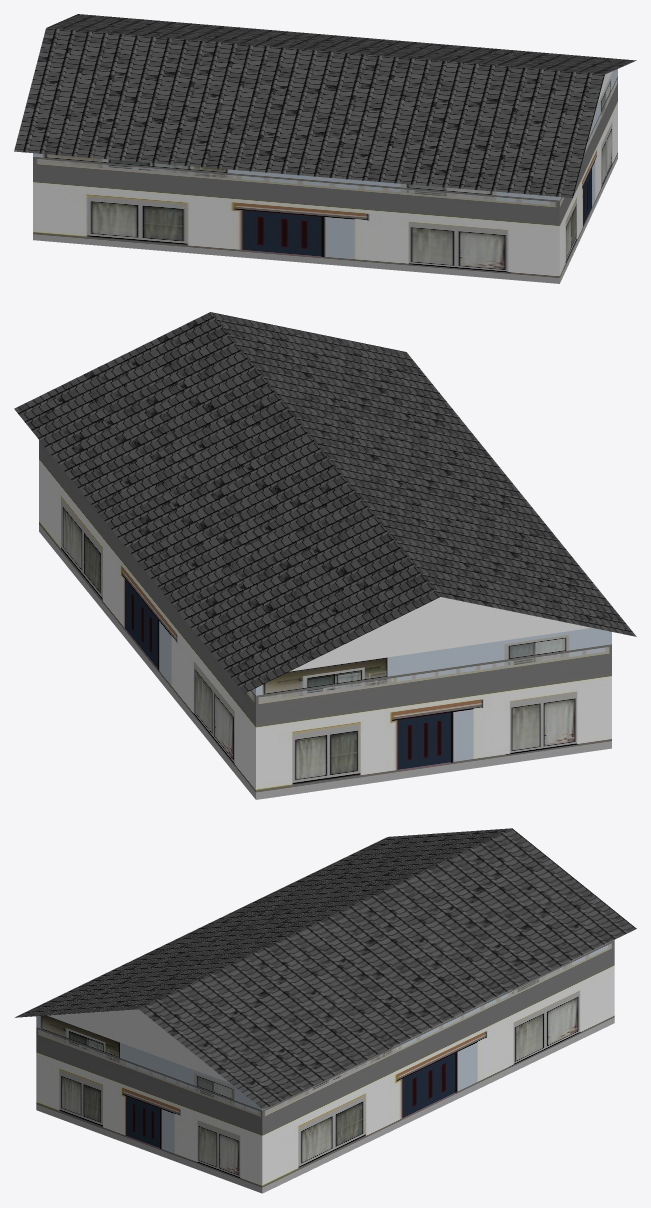
The picture shows the model from 3 angles, top to bottom: view 1: azimuth 30°, elevation 25°; view 2: azimuth 150°, elevation 25°; view 3: azimuth 270°, elevation 25°; orthographic projection. The views are drawn at different scales.
Visible parts, largest first — view 1: CityEngineMaterial_8_m, CityEngineMaterial_7_m; view 2: CityEngineMaterial_8_m, CityEngineMaterial_7_m, CityEngineMaterial_3_m; view 3: CityEngineMaterial_8_m, CityEngineMaterial_7_m, CityEngineMaterial_3_m.
Part boxes in pixels (x1,y1,x2,y2): CityEngineMaterial_8_m: [14, 14, 636, 197]; CityEngineMaterial_7_m: [33, 69, 617, 283]; CityEngineMaterial_8_m: [14, 312, 636, 693]; CityEngineMaterial_7_m: [39, 440, 611, 799]; CityEngineMaterial_3_m: [289, 597, 591, 671]; CityEngineMaterial_8_m: [15, 828, 636, 1109]; CityEngineMaterial_7_m: [36, 940, 614, 1193]; CityEngineMaterial_3_m: [47, 1009, 229, 1082].
Size of the model in its own units: 39.35 by 9.95 by 37.97.
